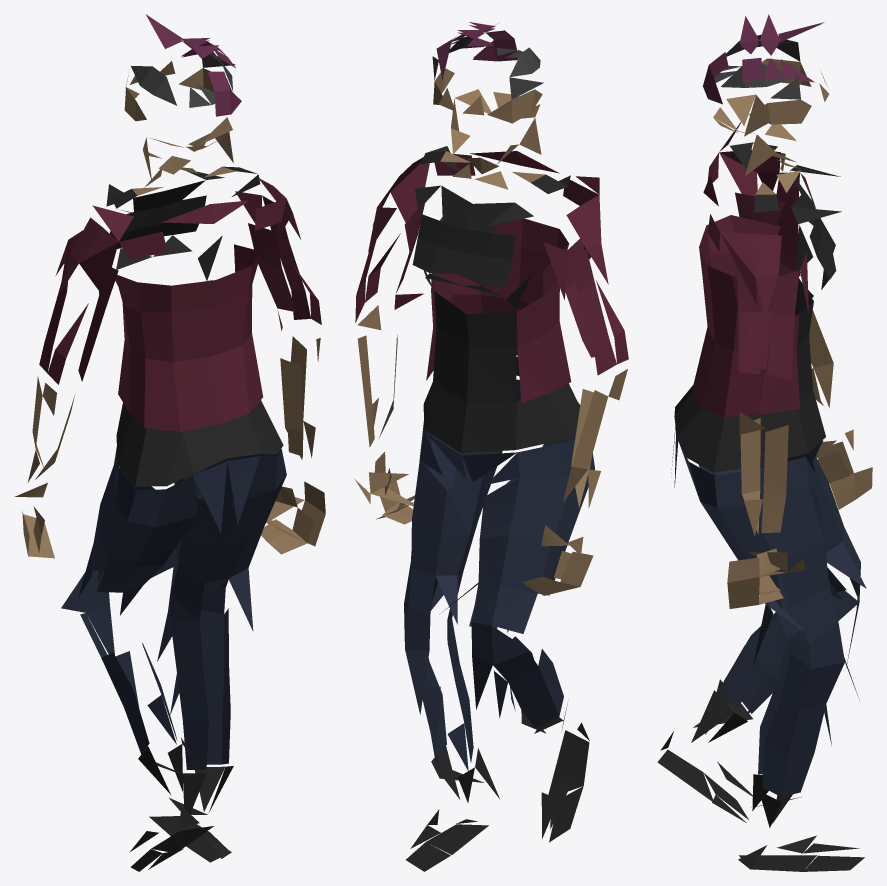
The model's file is personfar_8_w0.fbx.
The picture shows the model from 3 angles, left to right: view 1: azimuth 30°, elevation 25°; view 2: azimuth 150°, elevation 25°; view 3: azimuth 270°, elevation 25°; orthographic projection.
Parts seen in each view (by area): view 1: Female; view 2: Female; view 3: Female.
Boxes of the visible parts, x1,y1,x2,y2 form: Female: [14, 14, 325, 871]; Female: [354, 22, 628, 871]; Female: [657, 14, 872, 871].
Size of the model in its own units: 0.3343 by 0.9942 by 0.2339.
